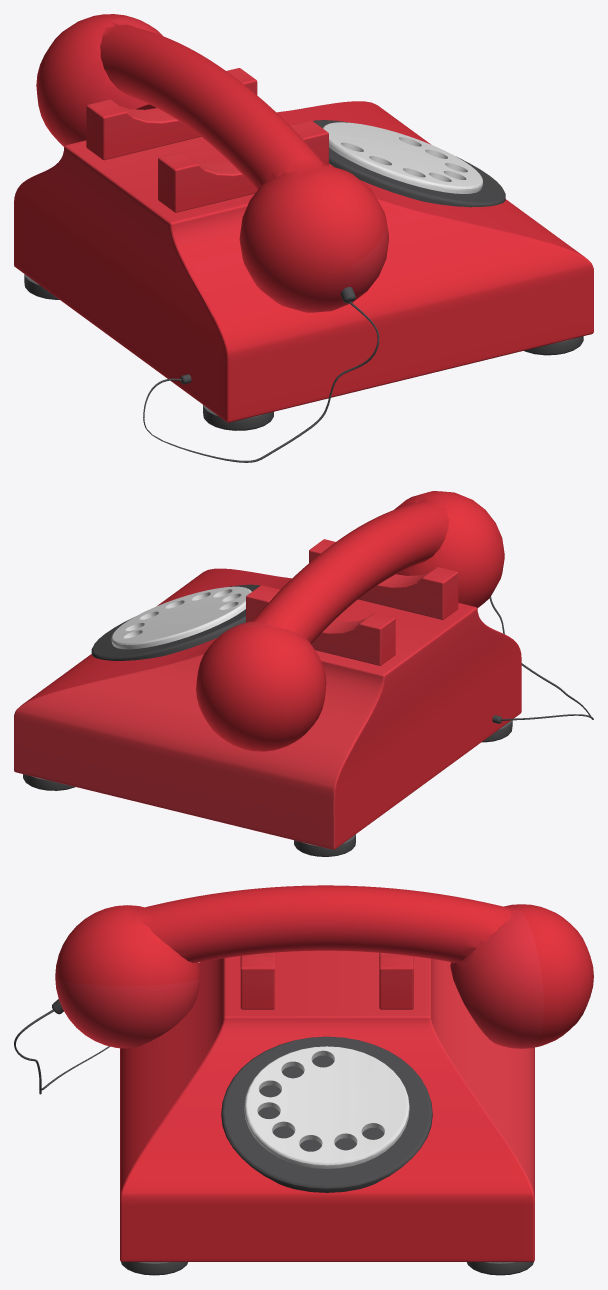
File: telephone.fbx
The picture shows the model from 3 angles, top to bottom: view 1: azimuth 30°, elevation 25°; view 2: azimuth 150°, elevation 25°; view 3: azimuth 270°, elevation 25°; orthographic projection. The views are drawn at different scales.
Parts seen in each view (by area): view 1: polySurface2, polySurface1, polySurface9, polySurface8, polySurface4, polySurface6, polySurface3, polySurface10, polySurface5; view 2: polySurface2, polySurface1, polySurface9, polySurface4, polySurface8, polySurface6, polySurface11, polySurface3; view 3: polySurface2, polySurface1, polySurface9, polySurface6, polySurface8, polySurface4, polySurface5, polySurface7.
Part boxes in pixels (<box>): polySurface2: <box>14,101,593,422</box>; polySurface1: <box>36,14,388,312</box>; polySurface9: <box>322,122,482,193</box>; polySurface8: <box>158,120,328,212</box>; polySurface4: <box>86,68,257,160</box>; polySurface6: <box>313,120,505,207</box>; polySurface3: <box>143,301,379,462</box>; polySurface10: <box>203,405,273,430</box>; polySurface5: <box>524,336,583,355</box>; polySurface2: <box>14,568,521,849</box>; polySurface1: <box>196,491,504,751</box>; polySurface9: <box>111,586,251,649</box>; polySurface4: <box>246,585,395,665</box>; polySurface8: <box>309,539,458,619</box>; polySurface6: <box>91,584,260,660</box>; polySurface11: <box>294,834,355,856</box>; polySurface3: <box>489,596,593,721</box>; polySurface2: <box>120,950,534,1261</box>; polySurface1: <box>55,885,593,1048</box>; polySurface9: <box>244,1046,409,1168</box>; polySurface6: <box>221,1036,432,1192</box>; polySurface8: <box>240,952,274,1009</box>; polySurface4: <box>379,953,413,1009</box>; polySurface5: <box>120,1261,187,1275</box>; polySurface7: <box>467,1262,533,1275</box>.
Size of the model in its own units: 14.58 by 8.19 by 16.77.
1 material, 1 textured.
